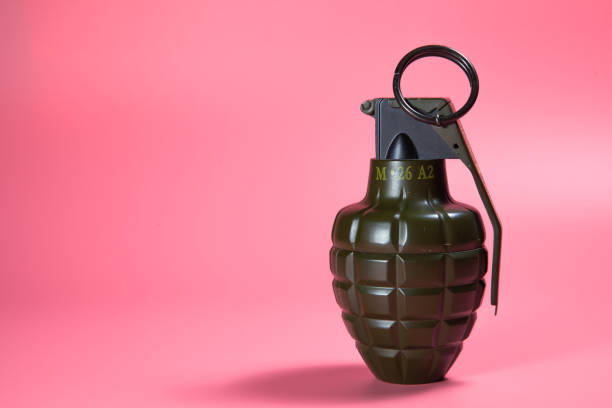e1: (331, 48, 503, 386)
